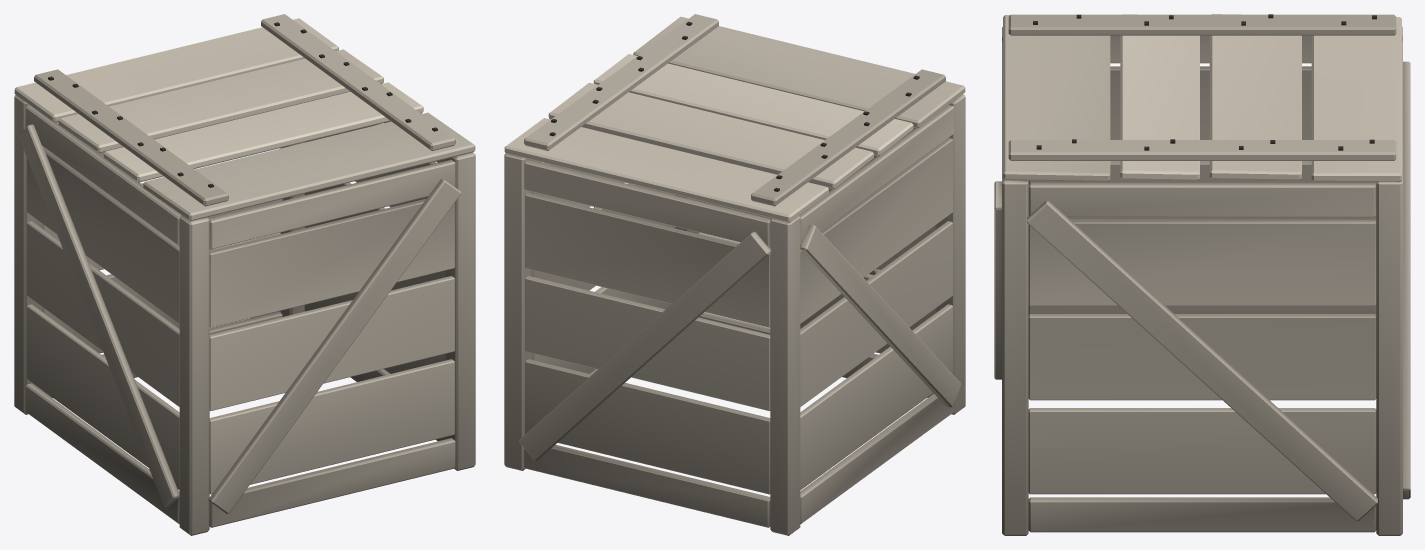
File: crate.glb
3 renders of one model, left to right at view 1: azimuth 30°, elevation 25°; view 2: azimuth 150°, elevation 25°; view 3: azimuth 270°, elevation 25°, orthographic. The views are drawn at different scales.
Visible parts, largest first — view 1: crate; view 2: crate; view 3: crate.
Part boxes in pixels (left/top/right/bottom): crate: left=14, top=14, right=475, bottom=535; crate: left=504, top=14, right=965, bottom=535; crate: left=994, top=14, right=1410, bottom=535.
Size of what is drawn, in the model's own units: 0.8752 by 0.933 by 0.9352.
